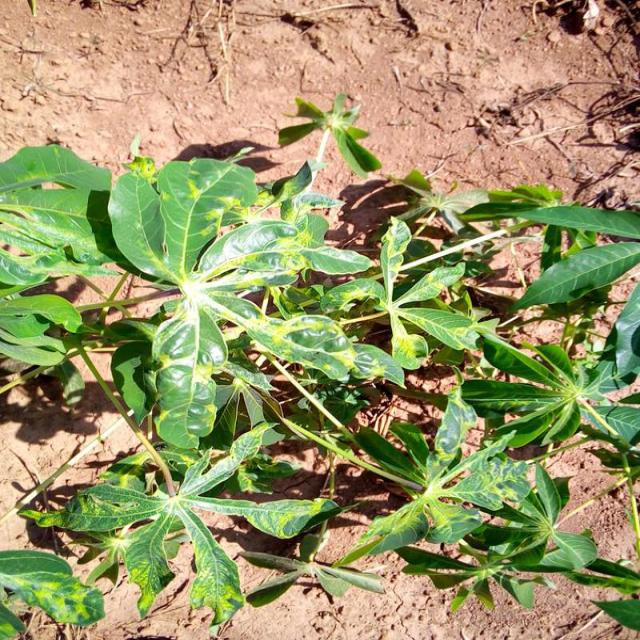cassava leaf: (1, 136, 638, 632)
